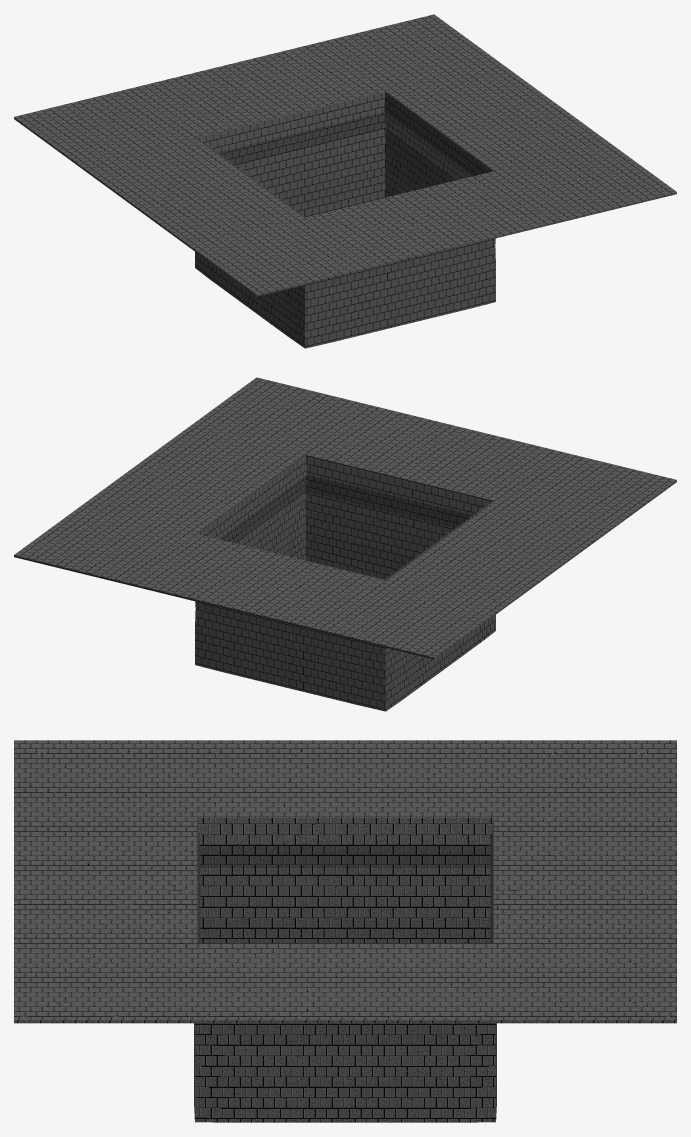
The model's file is Ground.fbx.
3 views of the same model, one above another, from view 1: azimuth 30°, elevation 25°; view 2: azimuth 150°, elevation 25°; view 3: azimuth 270°, elevation 25° (orthographic). The views are drawn at different scales.
Visible parts, largest first — view 1: Base_Floor; view 2: Base_Floor; view 3: Base_Floor.
Boxes of the visible parts, bbox=[...] form: Base_Floor: bbox=[14, 14, 676, 348]; Base_Floor: bbox=[14, 377, 676, 711]; Base_Floor: bbox=[14, 740, 676, 1122].
Bounding box in the file's own units: 8000 × 2375 × 8000.
